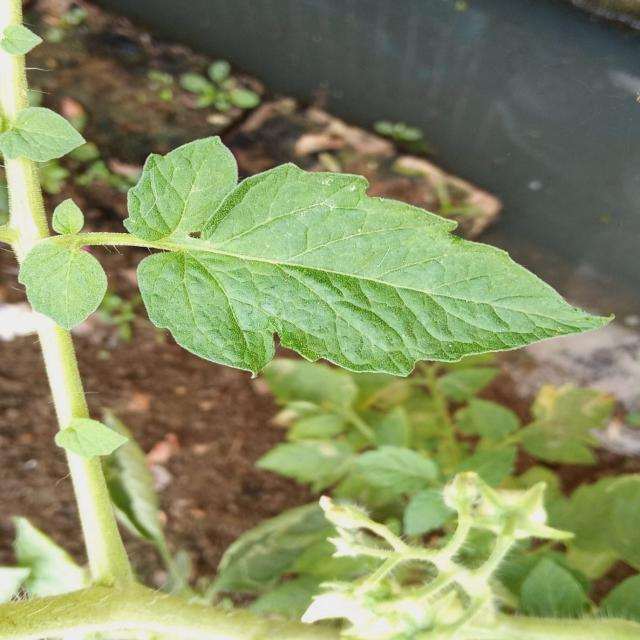Healthy: (137, 161, 609, 378), (107, 131, 251, 251), (4, 227, 119, 337)
